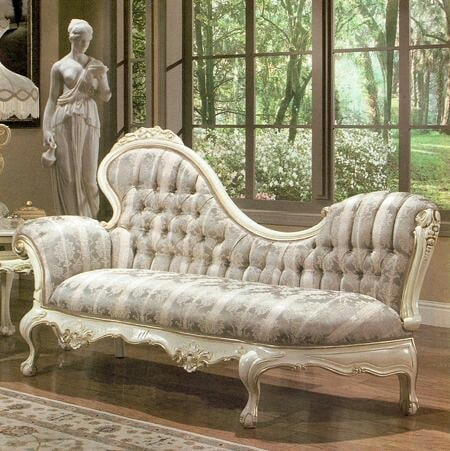Carving Chair: (31, 135, 440, 438)
